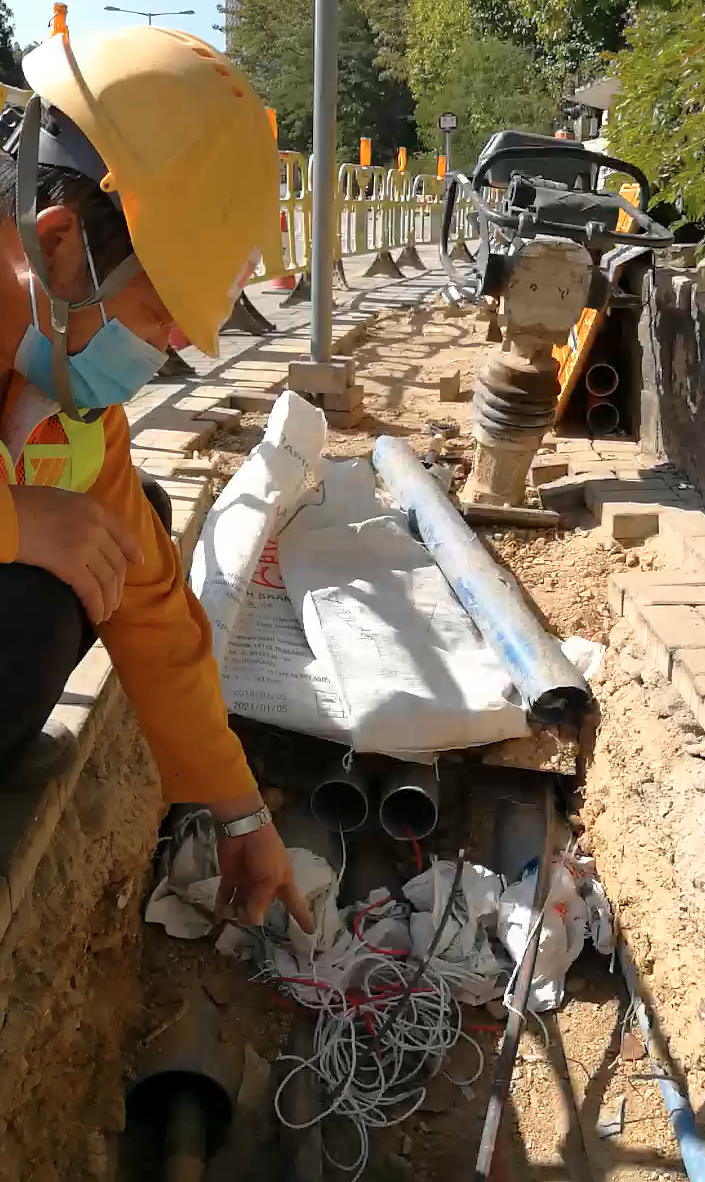Hard Hat: (3, 32, 290, 413)
